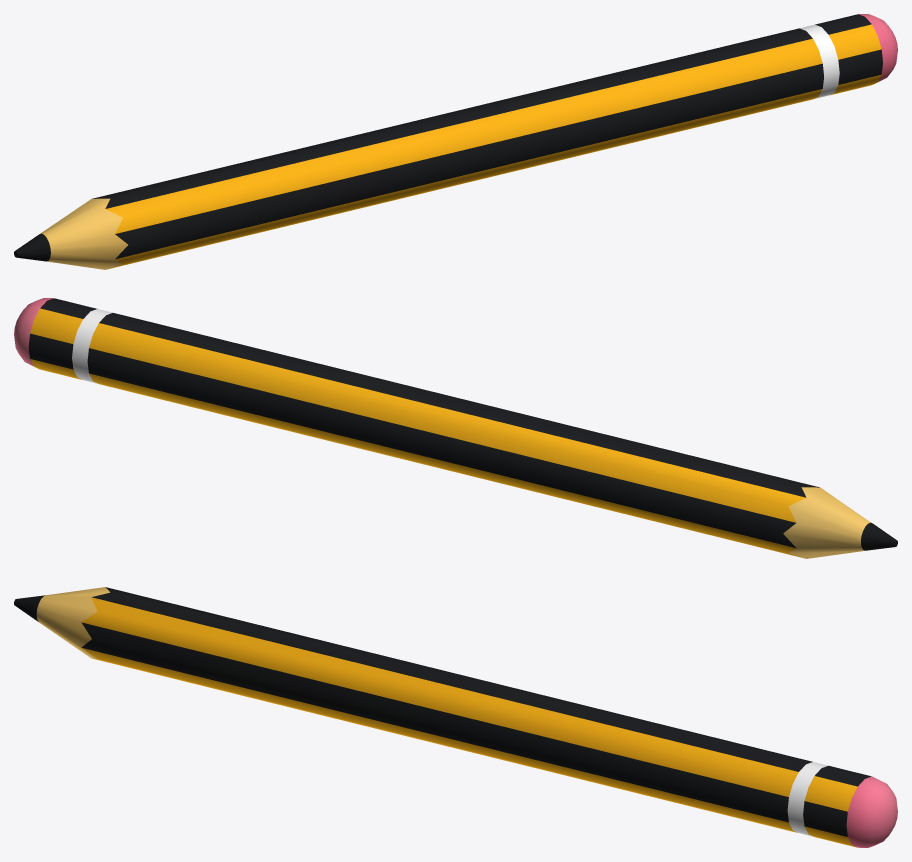
The model's file is Pencil.fbx.
The picture shows the model from 3 angles, top to bottom: view 1: azimuth 30°, elevation 25°; view 2: azimuth 150°, elevation 25°; view 3: azimuth 330°, elevation 25°; orthographic projection.
Parts seen in each view (by area): view 1: Cylinder.114; view 2: Cylinder.114; view 3: Cylinder.114.
Part boxes in pixels (box(x1,y1,x2,y2)): Cylinder.114: box(14, 14, 897, 269); Cylinder.114: box(14, 298, 897, 558); Cylinder.114: box(14, 587, 897, 847).
Bounding box in the file's own units: 123 × 8.83 × 9.4.
